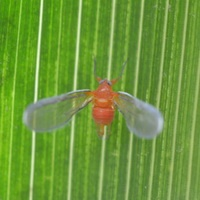insect: (23, 77, 163, 138)
